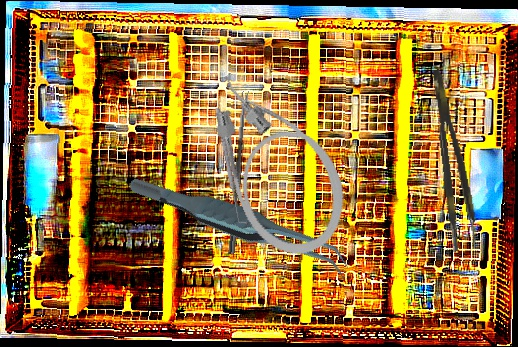Cannula: (194, 50, 362, 271)
Hook Surgical: (213, 105, 248, 227)
Surgical Spoon: (228, 90, 250, 255)
Tissue Forceps: (126, 133, 356, 315), (429, 67, 480, 252)
